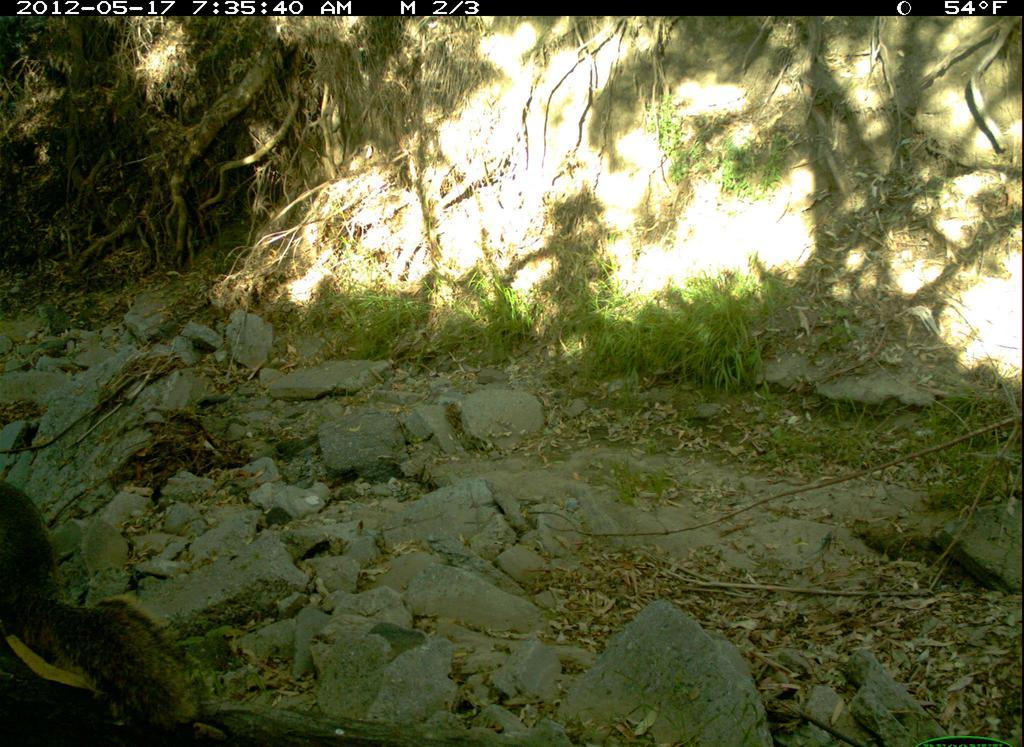squirrel: (4, 469, 214, 739)
